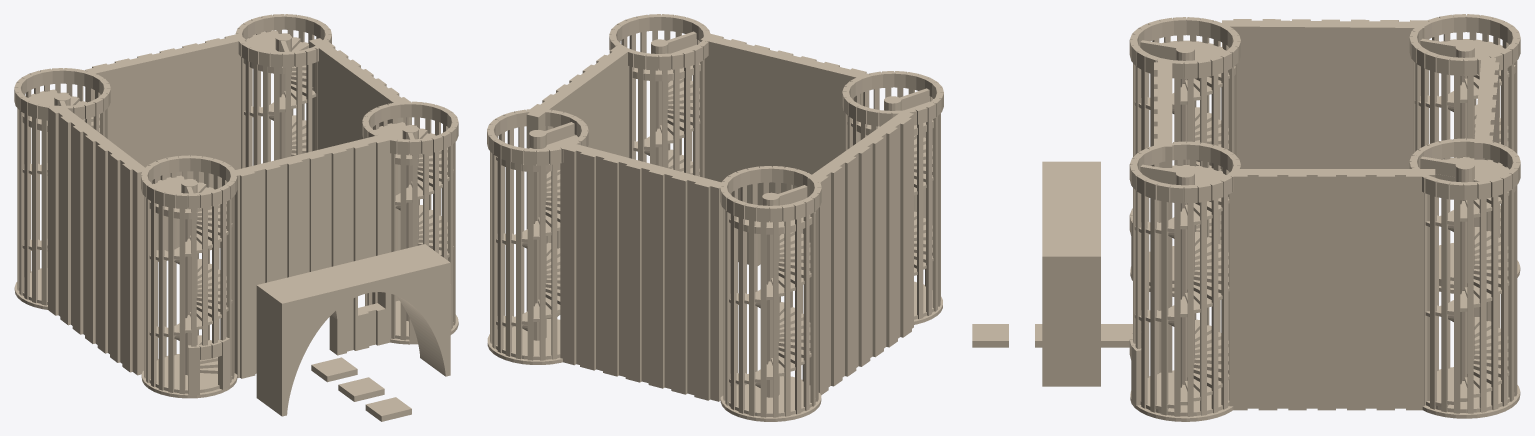
The model's file is Ronan - Castle.glb.
3 renders of one model, left to right at view 1: azimuth 30°, elevation 25°; view 2: azimuth 150°, elevation 25°; view 3: azimuth 270°, elevation 25°, orthographic. The views are drawn at different scales.
Visible parts, largest first — view 1: Mesh_Mesh_head_geo.001_lambert2SG.001; view 2: Mesh_Mesh_head_geo.001_lambert2SG.001; view 3: Mesh_Mesh_head_geo.001_lambert2SG.001.
Part boxes in pixels (<box>): Mesh_Mesh_head_geo.001_lambert2SG.001: <box>14,14,458,421</box>; Mesh_Mesh_head_geo.001_lambert2SG.001: <box>487,14,943,421</box>; Mesh_Mesh_head_geo.001_lambert2SG.001: <box>972,14,1520,421</box>.
Size of the model in its own units: 0.1122 by 0.0701 by 0.149.
